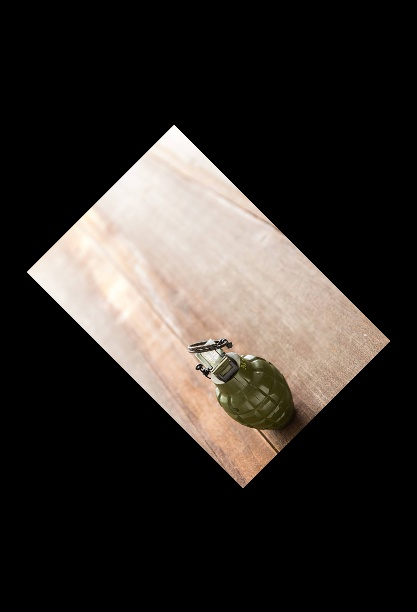e1: (188, 333, 296, 431)
